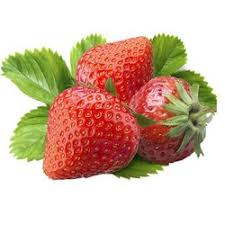ripe: (39, 82, 133, 190), (128, 76, 205, 172), (73, 28, 156, 110)
